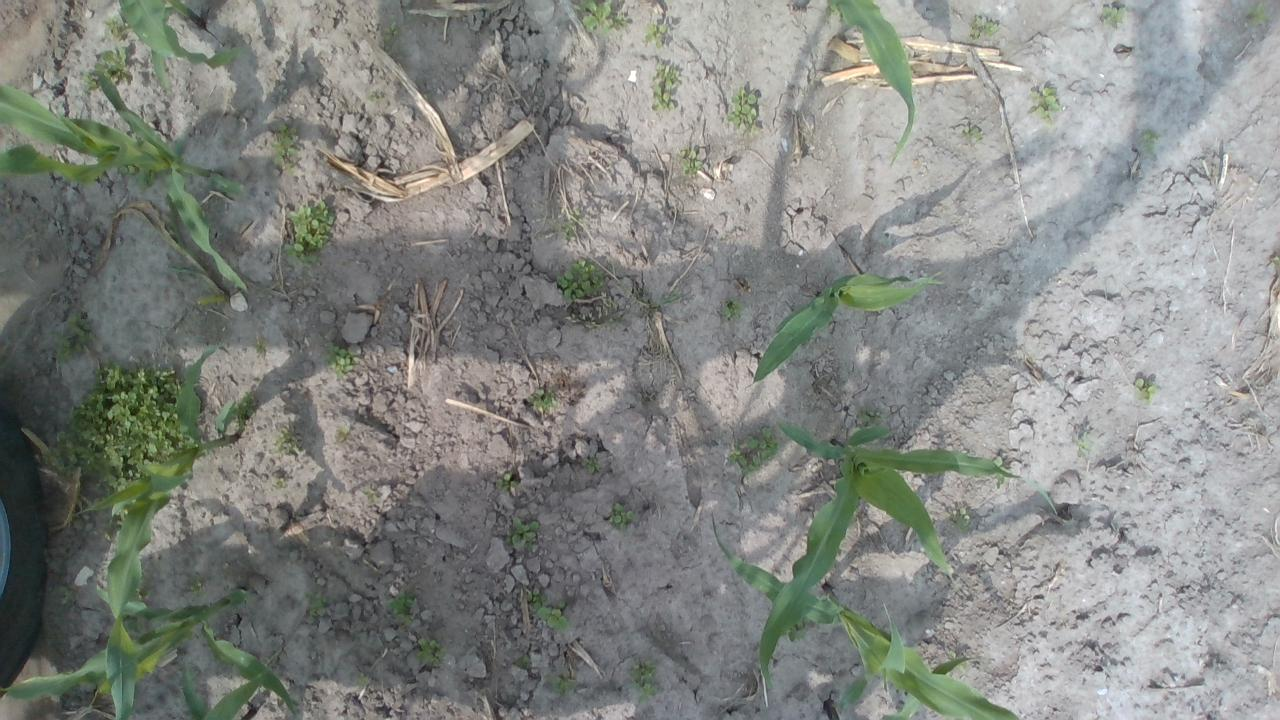Maize: (757, 413, 1059, 692), (70, 340, 242, 720), (710, 511, 1021, 720), (0, 64, 251, 304), (0, 586, 298, 720), (735, 266, 947, 388), (795, 0, 920, 173), (112, 0, 251, 90), (174, 657, 266, 720), (819, 689, 846, 720)
Weeds: (32, 364, 202, 498), (280, 198, 338, 264), (726, 426, 781, 476), (564, 298, 630, 334), (555, 256, 606, 301), (52, 314, 97, 361), (86, 46, 132, 90), (524, 588, 570, 631), (578, 0, 628, 32), (627, 660, 664, 703), (271, 124, 301, 176), (650, 62, 680, 112), (632, 288, 691, 312), (1027, 86, 1062, 126), (726, 86, 758, 128), (387, 588, 417, 626), (550, 210, 586, 241), (120, 162, 156, 190), (509, 516, 540, 548), (272, 425, 302, 456), (230, 391, 258, 424), (783, 614, 814, 643), (415, 638, 447, 666), (608, 502, 635, 534), (325, 341, 352, 373), (525, 388, 559, 411), (967, 16, 999, 40), (679, 148, 706, 174), (991, 456, 1012, 486), (1134, 378, 1158, 404), (1100, 5, 1126, 28), (104, 15, 130, 37), (306, 592, 326, 618), (950, 507, 970, 532), (1247, 3, 1270, 24), (724, 298, 744, 322), (858, 409, 886, 426), (552, 676, 578, 694), (648, 22, 666, 47), (494, 475, 517, 494), (334, 426, 354, 445), (382, 20, 400, 41), (59, 586, 76, 605), (962, 126, 981, 142), (582, 458, 600, 474), (1074, 436, 1090, 454), (1142, 133, 1158, 151), (826, 1, 842, 18), (189, 580, 205, 596), (367, 88, 383, 102), (364, 488, 380, 502), (275, 476, 286, 488), (1272, 254, 1280, 266)
